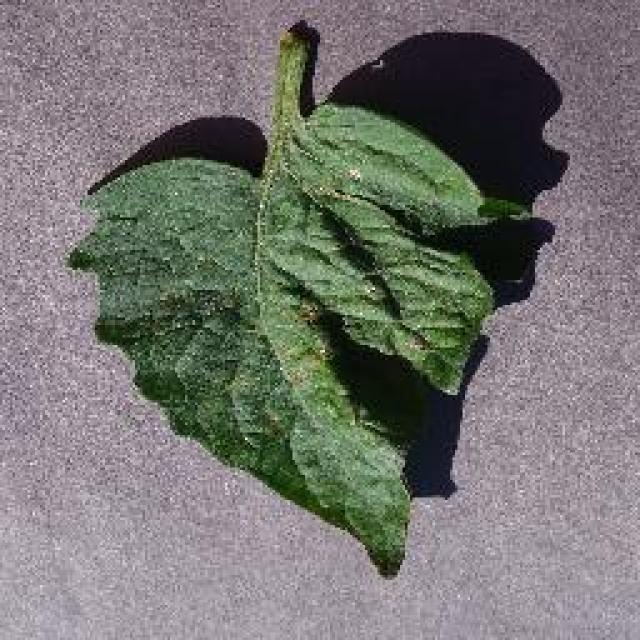Tomato___Target_Spot: (70, 28, 528, 572)
